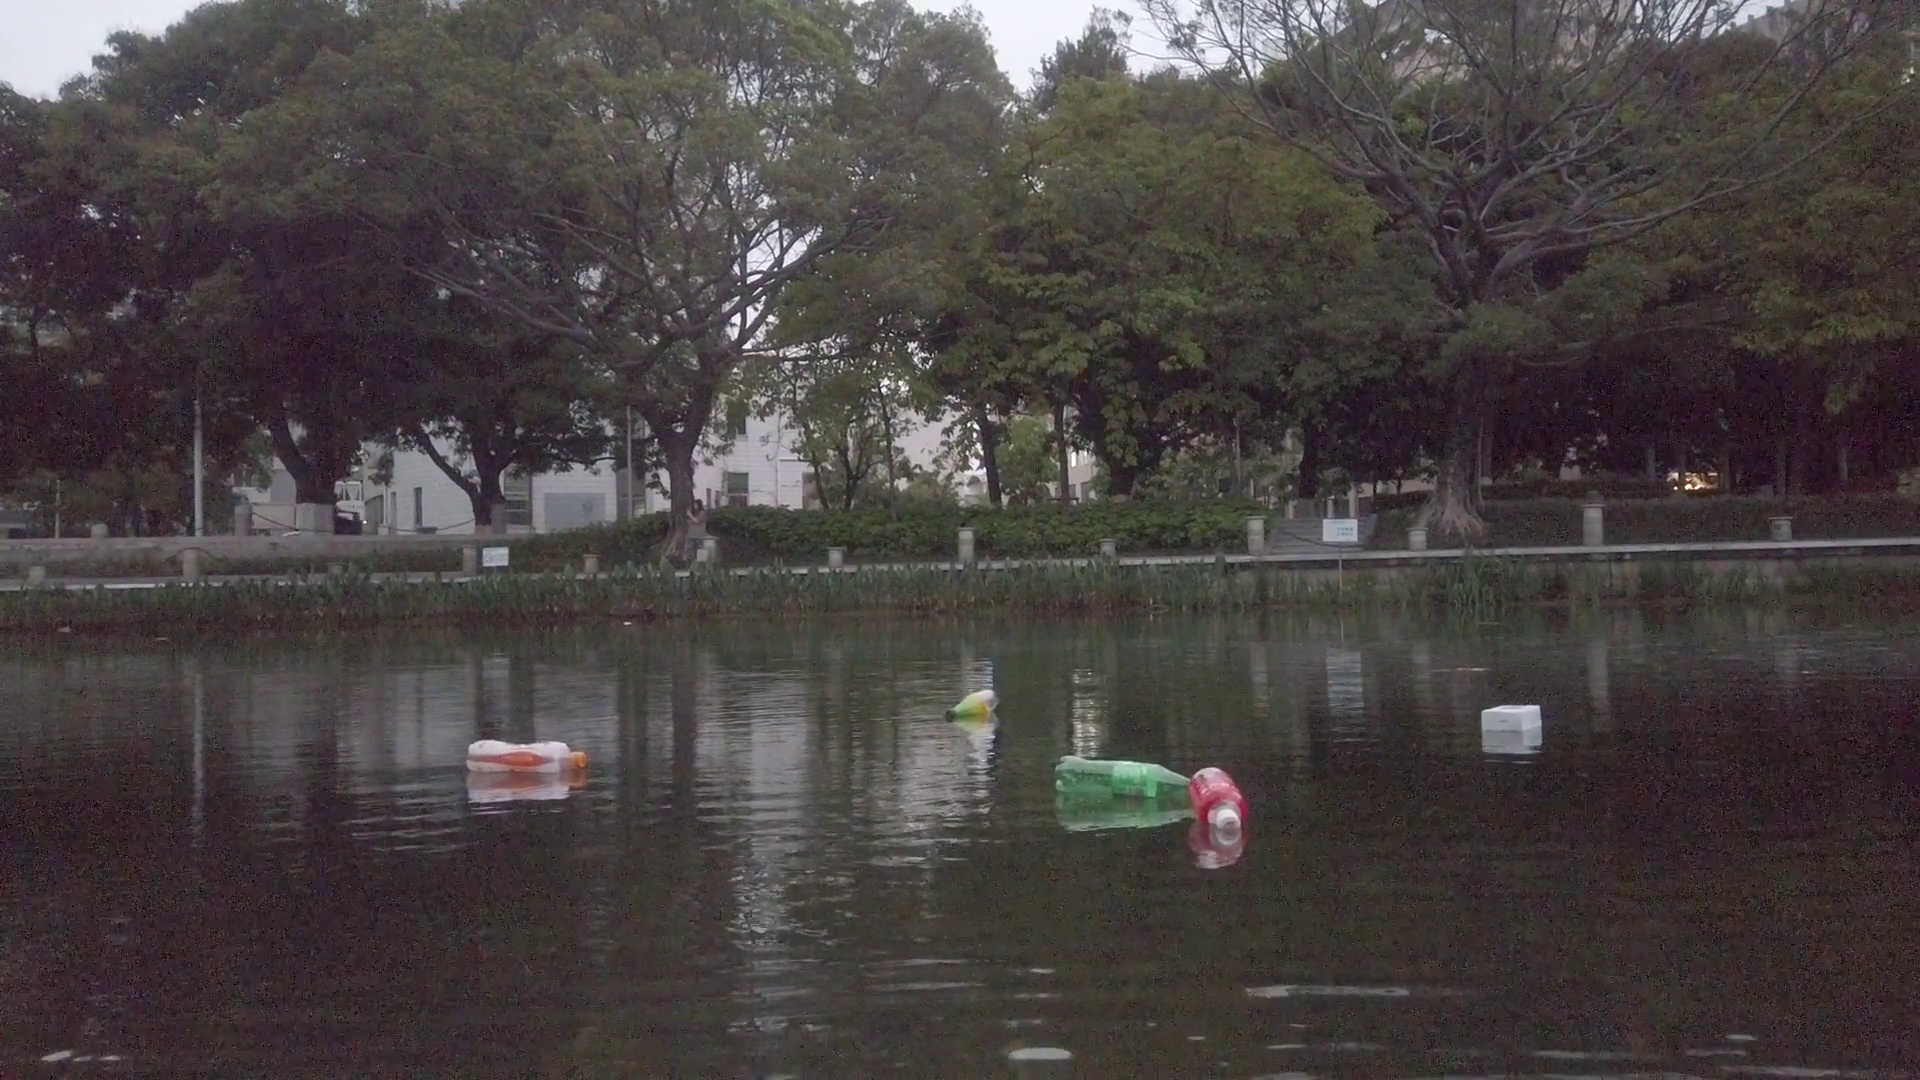bottle: (1058, 752, 1195, 802), (465, 737, 589, 778), (1191, 767, 1247, 829), (943, 688, 1000, 719)
carton: (1482, 702, 1542, 733)
